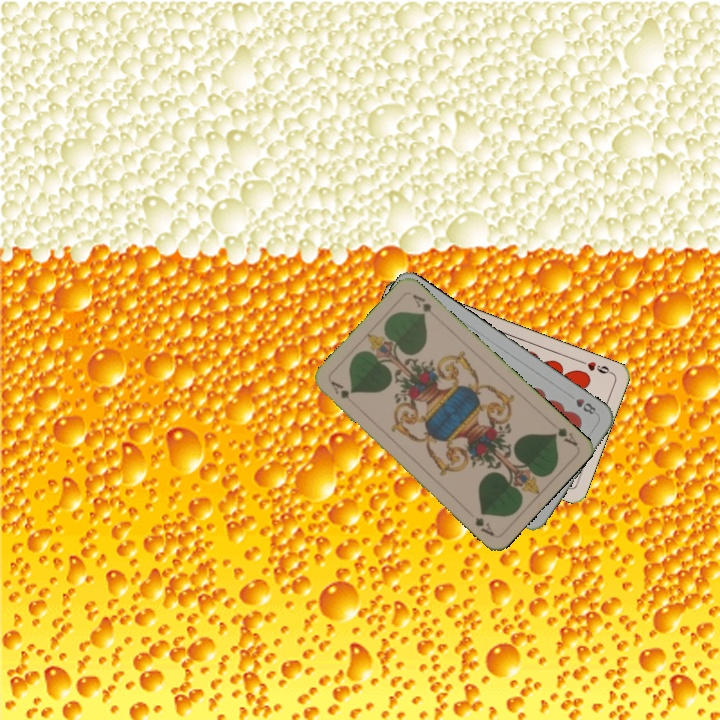GA: (326, 377, 359, 409), (548, 423, 580, 449)
H8: (572, 394, 600, 417)
H9: (575, 356, 615, 376)
